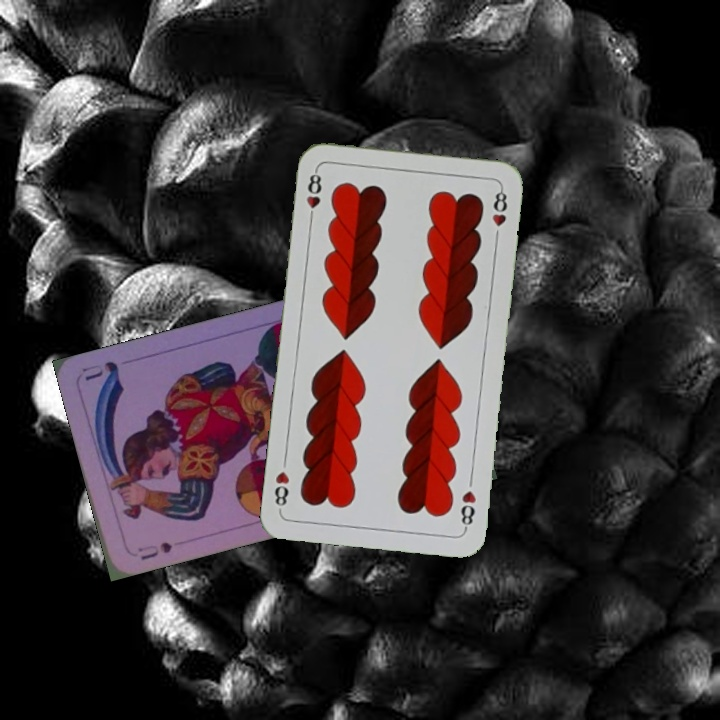H8: (302, 165, 324, 225), (457, 486, 479, 532)
SU: (134, 537, 175, 563)
